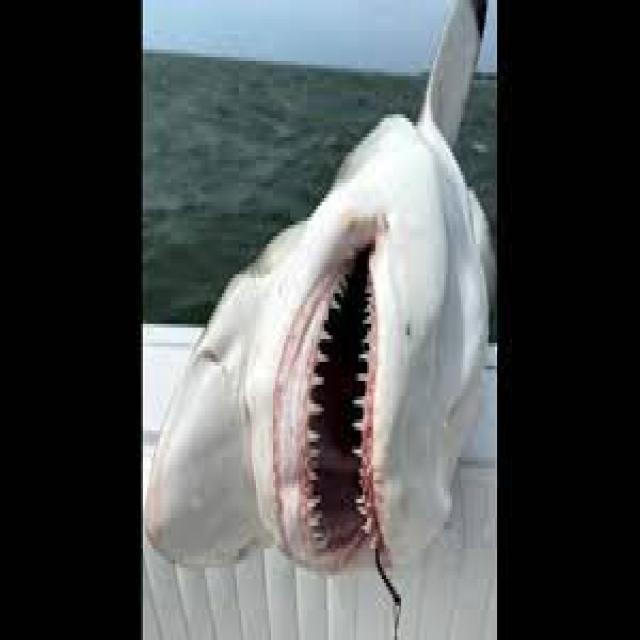shark: (145, 0, 493, 568)
